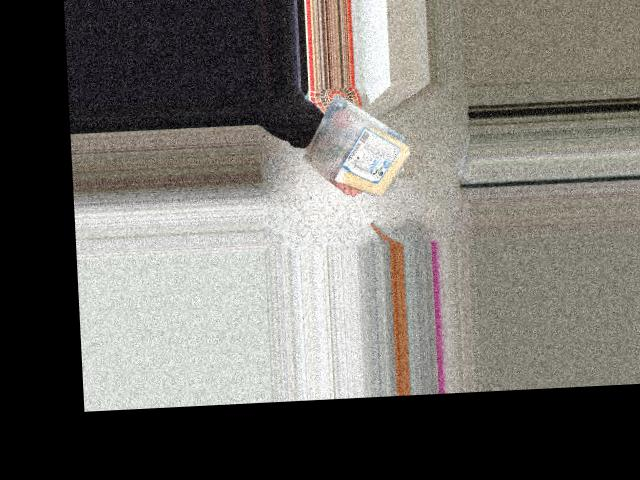cheese: (318, 132, 414, 188)
